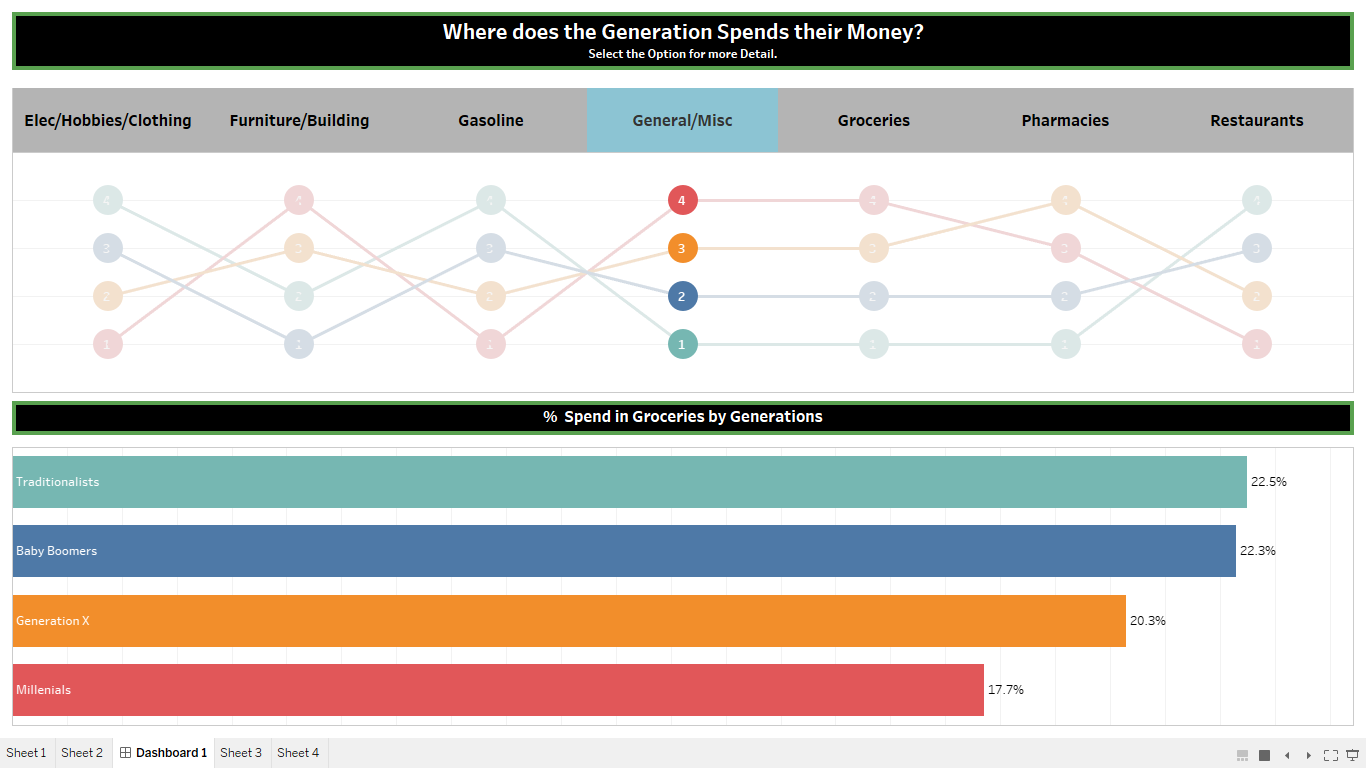

Layout of this report page (visuals, bound fields, positions):
{"tool":"tableau","page":{"name":"Dashboard 1","canvas":[1000,1000],"units":"permille","ordinal":0},"visuals":[{"type":"worksheet","title":"Sheet 3","mark":"Automatic","box":[6.9,13.3,986.1,102.9]},{"type":"worksheet","title":"Sheet 1","mark":"Line","cols":["Category"],"box":[6.9,116.2,986.1,421.9]},{"type":"worksheet","title":"Sheet 4","mark":"Automatic","box":[6.9,538.1,986.1,61.5]},{"type":"worksheet","title":"Sheet 2","mark":"Bar","rows":["Category","Generation"],"cols":["% of Spending","% of Spending"],"box":[6.9,599.5,986.1,387.2]}]}

Visuals, with their boxes on the dashboard's canvas, which has no fixed pixel size, in thousandths of its width and height (x1, y1, x2, y2). These are canvas units, not pixel positions in the 1366x768 screenshot, which may show the page scaled, cropped or inside an application window:
"Sheet 3" worksheet: region(7, 13, 993, 116)
"Sheet 1" worksheet (Line marks): region(7, 116, 993, 538)
"Sheet 4" worksheet: region(7, 538, 993, 600)
"Sheet 2" worksheet (Bar marks): region(7, 600, 993, 987)
